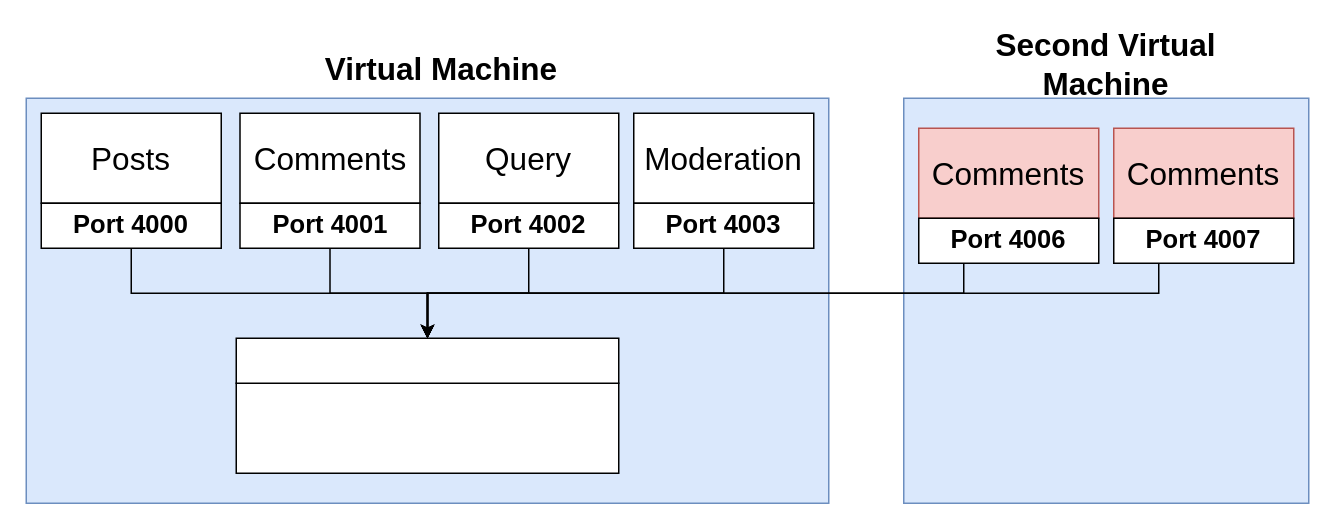
This 1335x530 diagram has some shape labels left out. The shapes that lost their labels are listed below. From the top down, each one's centre as x and y in pixels, then its label:
At point 427,360: "Port 4005".
At point 427,427: "Event Bus".
